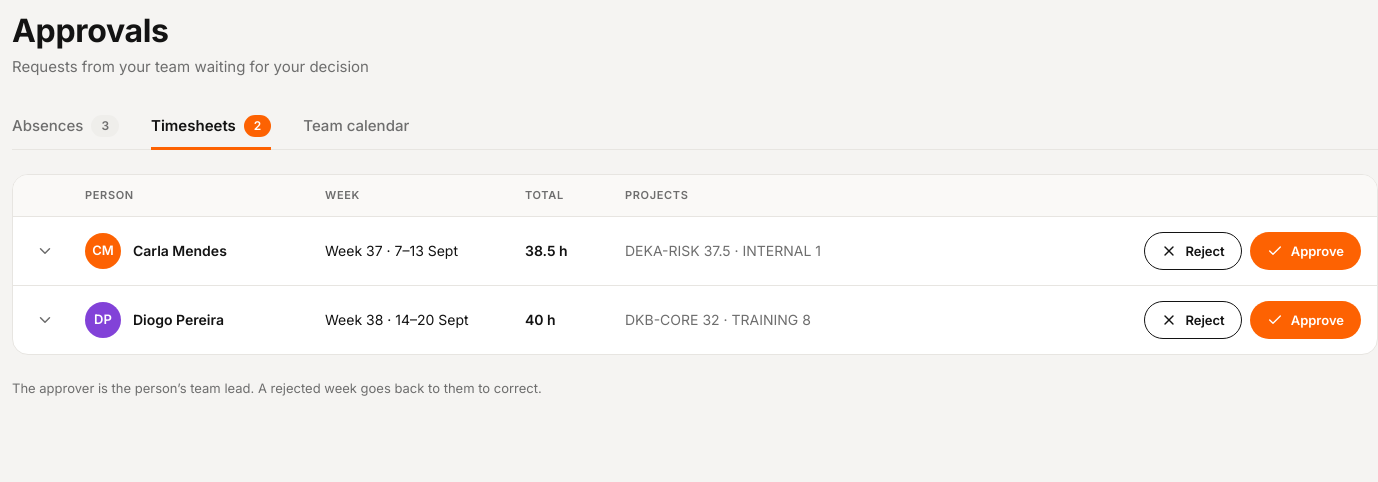
ApprovalsView, Timesheets tab › says so when the week was already decided, and refreshes the list
This screenshot has width=1378, height=482.
Expected: the element showing "Absences 3 Timesheets 2 Team calendar" is shown, left=12, top=103, right=1377, bottom=150
Click the button "Approve" in the row of "DP" at (1305, 320), box left=1250, top=301, right=1361, bottom=339
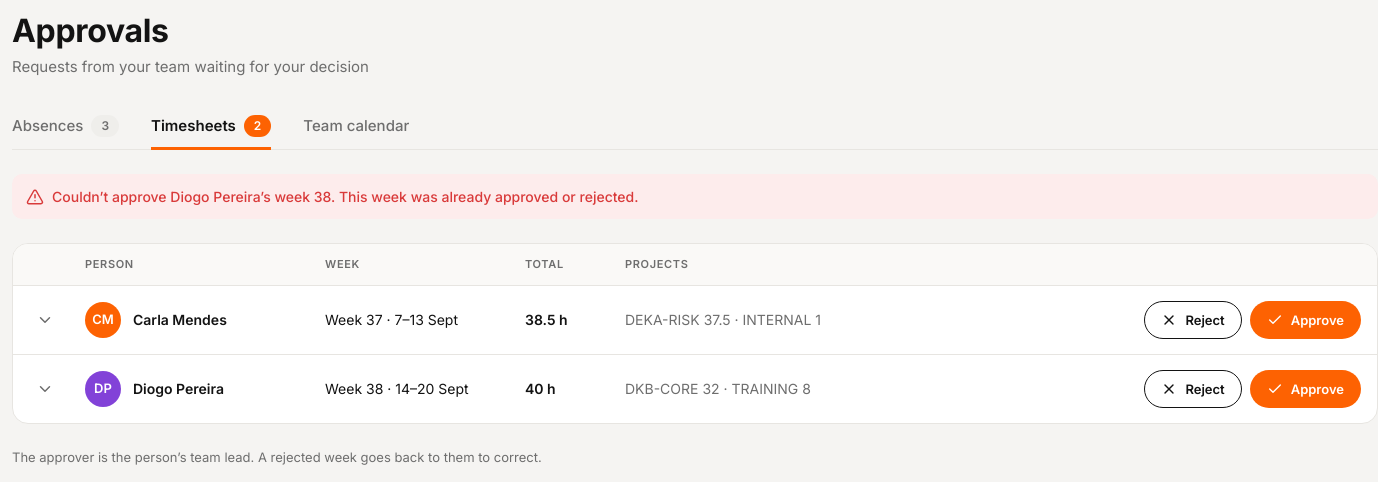
Result: the message with class "banner" shows "Couldn’t approve Diogo Pereira’s week 38. This week was already approved or rejected." at left=52, top=188, right=638, bottom=205
